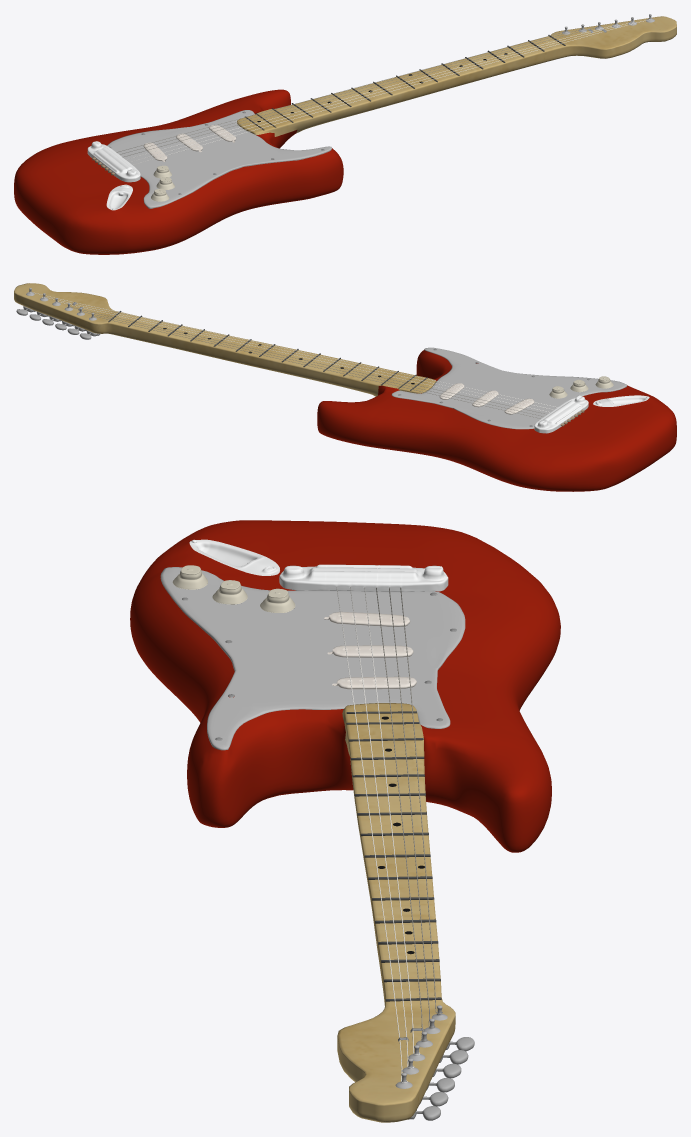
File: guitar-extra-gltf.gltf
3 views of the same model, one above another, from view 1: azimuth 30°, elevation 25°; view 2: azimuth 150°, elevation 25°; view 3: azimuth 270°, elevation 25° (orthographic). The views are drawn at different scales.
Parts seen in each view (by area): view 1: Body, Neck, Pick guard, Plastic string, Strings, Bridge, Pickups, String Holder, Volume knob, Jack; view 2: Body, Neck, Pick guard, Plastic string, Strings, Bridge, Pickups, Headstock, String Holder, Volume knob, Jack; view 3: Body, Neck, Pick guard, Bridge, String Holder, Pickups, Plastic string, Strings, Volume knob, Jack, Headstock, Tuners.
Boxes of the visible parts, x1,y1,x2,y2 form: Body: (14,89,343,254); Neck: (237,16,676,136); Pick guard: (107,110,331,208); Plastic string: (126,18,651,164); Strings: (116,26,600,157); Bridge: (87,141,140,182); Pickups: (143,125,236,161); String Holder: (245,35,565,130); Volume knob: (151,165,174,201); Jack: (106,184,132,210); Body: (317,350,676,491); Neck: (14,283,436,396); Pick guard: (391,347,626,429); Plastic string: (28,292,556,412); Strings: (67,306,546,418); Bridge: (534,395,588,433); Pickups: (439,383,534,414); Headstock: (16,306,100,339); String Holder: (108,311,427,390); Volume knob: (549,376,613,398); Jack: (593,395,649,406); Body: (130,520,560,852); Neck: (337,703,455,1122); Pick guard: (160,567,465,750); Bridge: (279,564,448,591); String Holder: (346,711,441,1001); Pickups: (324,611,416,689); Plastic string: (336,587,419,1082); Strings: (376,587,442,1041); Volume knob: (172,565,295,612); Jack: (189,539,279,575); Headstock: (408,1037,474,1120); Tuners: (395,1005,447,1088).
Bounding box in the file's own units: 10.9 × 0.8221 × 3.27.
Materials: 16 (16 with a texture image).
